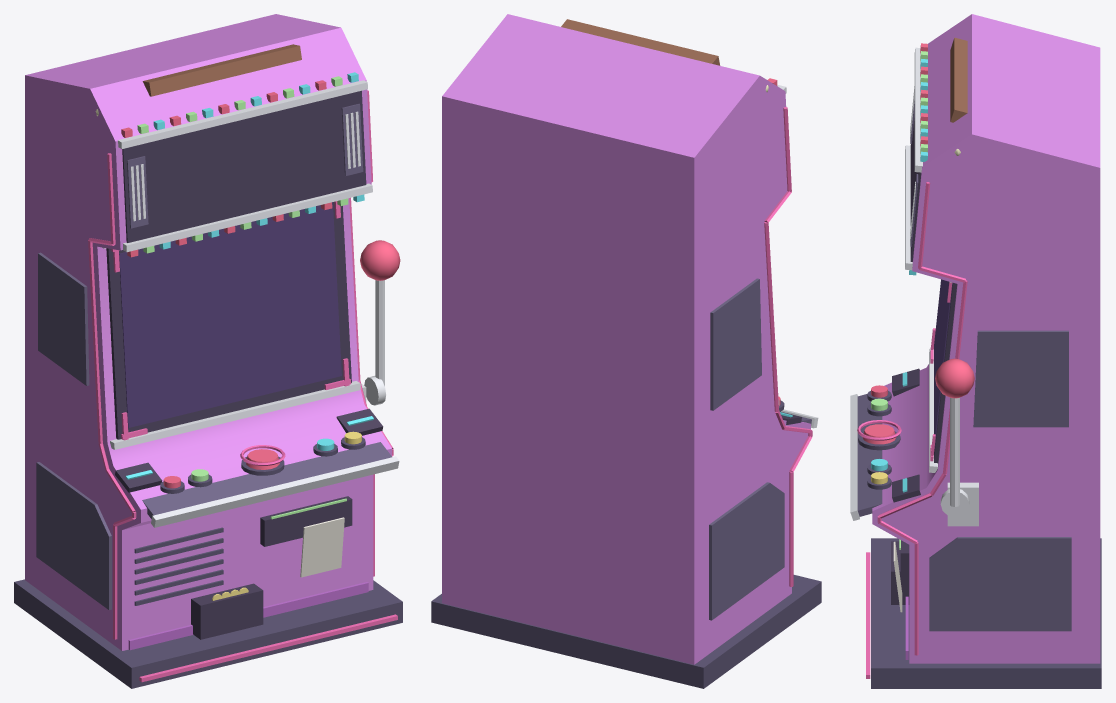
Rendered from slots.glb.
3 views of the same model, side by side, from view 1: azimuth 30°, elevation 25°; view 2: azimuth 150°, elevation 25°; view 3: azimuth 270°, elevation 25° (orthographic). The views are drawn at different scales.
Visible parts, largest first — view 1: shell, displayBack, headerFace, plinth, sidePlaque-1, bezel, headerTrim, deckPlate, deckLip, vent, cup, lampBar (+17 smaller); view 2: shell, sidePlaque-1, plinth, sideNeon-1, lampBar; view 3: shell, sidePlaque1, plinth, sideNeon1, deckPlate, headerTrim, lampBar, leverBracket, displayBack, leverOrb, leverArm, readers (+8 smaller).
Part boxes in pixels (x1=…): shell: x1=25, y1=14, x2=391, y2=650; displayBack: x1=119, y1=202, x2=341, y2=427; headerFace: x1=122, y1=90, x2=366, y2=242; plinth: x1=14, y1=579, x2=402, y2=688; sidePlaque-1: x1=36, y1=252, x2=111, y2=609; bezel: x1=106, y1=202, x2=351, y2=439; headerTrim: x1=118, y1=80, x2=372, y2=252; deckPlate: x1=142, y1=442, x2=391, y2=518; deckLip: x1=151, y1=456, x2=399, y2=527; vent: x1=134, y1=527, x2=223, y2=605; cup: x1=191, y1=583, x2=263, y2=639; lampBar: x1=142, y1=44, x2=301, y2=96; shell: x1=442, y1=14, x2=810, y2=664; sidePlaque-1: x1=709, y1=278, x2=784, y2=620; plinth: x1=431, y1=575, x2=821, y2=688; sideNeon-1: x1=764, y1=107, x2=812, y2=586; lampBar: x1=561, y1=19, x2=720, y2=65; shell: x1=872, y1=14, x2=1100, y2=663; sidePlaque1: x1=929, y1=330, x2=1071, y2=631; plinth: x1=871, y1=538, x2=1101, y2=688; sideNeon1: x1=877, y1=182, x2=967, y2=655; deckPlate: x1=857, y1=393, x2=882, y2=516; headerTrim: x1=905, y1=47, x2=922, y2=270; lampBar: x1=950, y1=37, x2=967, y2=122; leverBracket: x1=940, y1=482, x2=978, y2=526; displayBack: x1=934, y1=279, x2=952, y2=448; leverOrb: x1=935, y1=358, x2=974, y2=398; leverArm: x1=950, y1=397, x2=959, y2=506; readers: x1=892, y1=368, x2=920, y2=502.
Bounding box in the file's own units: 2.46 × 4.26 × 1.76.
